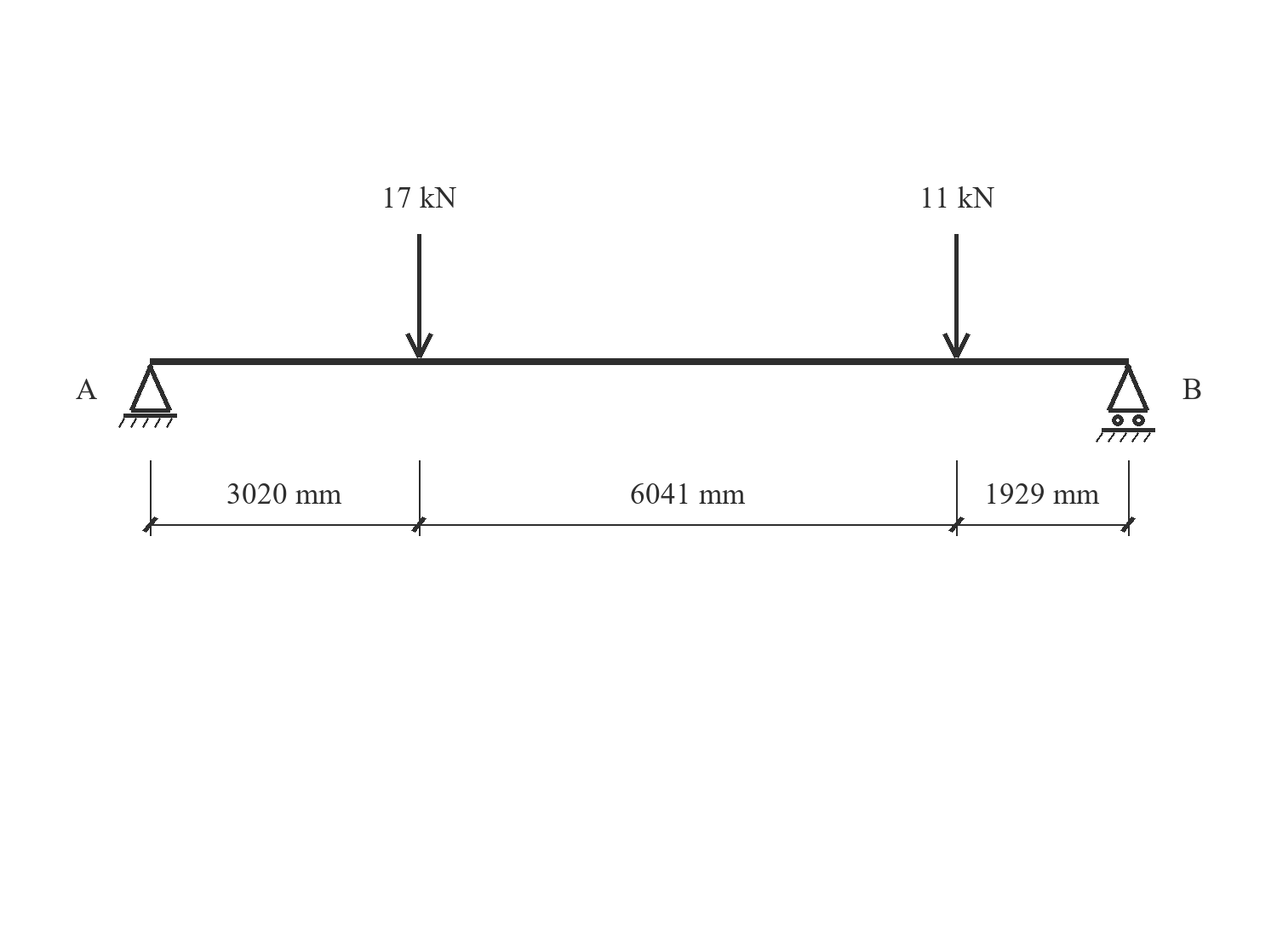pin_support: (118, 364, 177, 428)
point_load: (942, 234, 971, 358), (405, 234, 433, 358)
roller_support: (1096, 364, 1155, 442)
